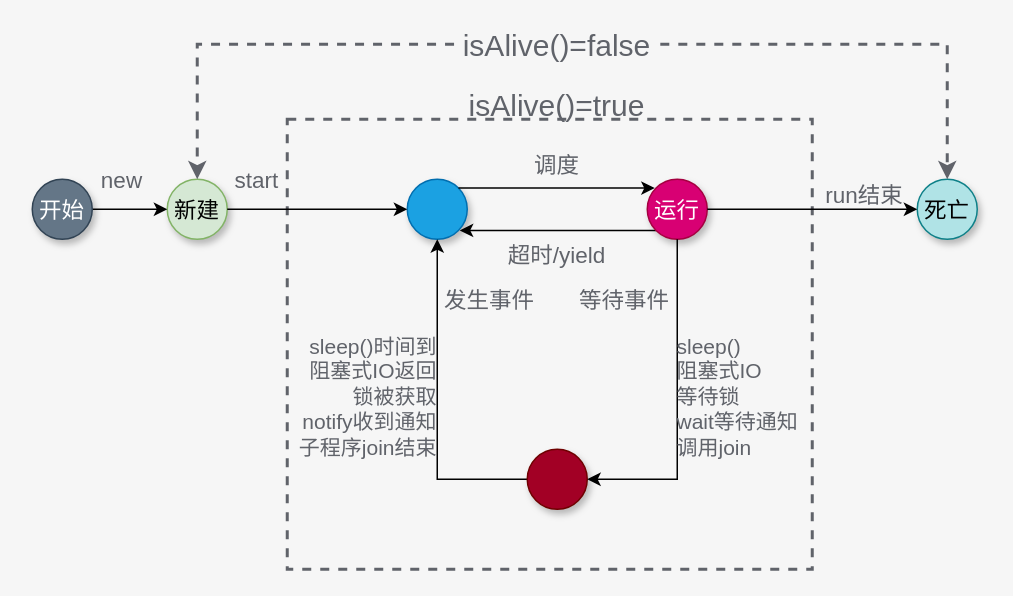
Some shapes in this 1013 by 596 pixel diagram are drawn without their labels. Each missing label, with the centre of its shape:
"堵塞" goes at point 558,481.
"就绪" goes at point 438,211.
